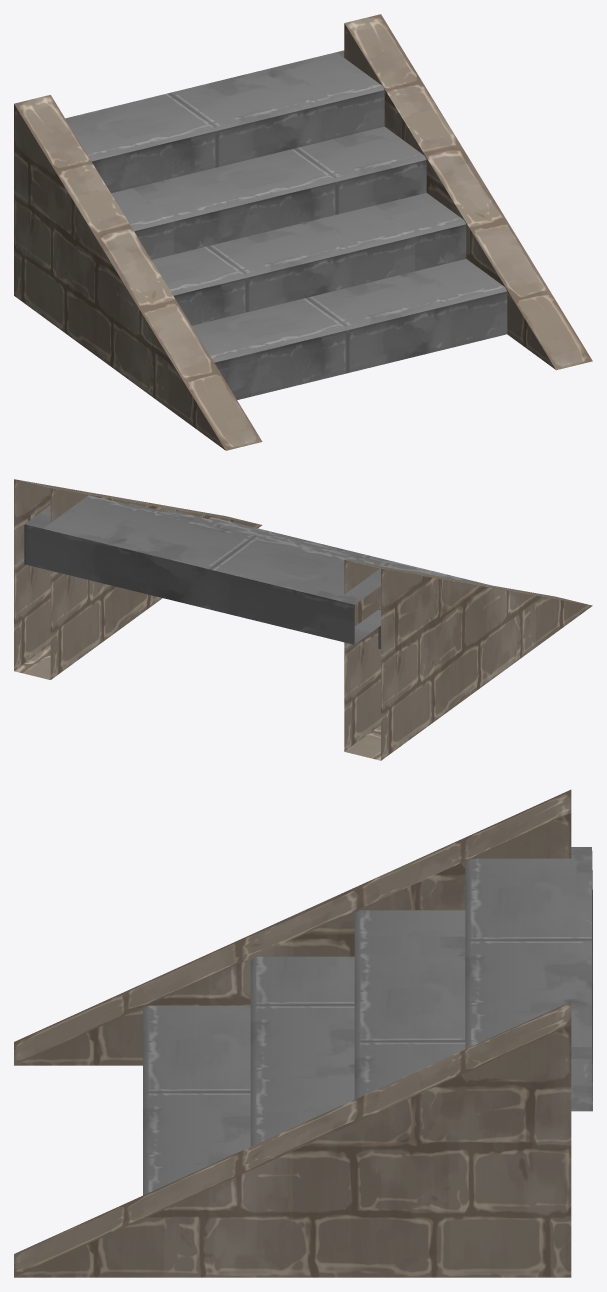
File: stairs_exterior_no_first_step.glb
The picture shows the model from 3 angles, top to bottom: view 1: azimuth 30°, elevation 25°; view 2: azimuth 150°, elevation 25°; view 3: azimuth 270°, elevation 25°; orthographic projection. The views are drawn at different scales.
Visible parts, largest first — view 1: Stairs_Exterior_NoFirstStep; view 2: Stairs_Exterior_NoFirstStep; view 3: Stairs_Exterior_NoFirstStep.
Part boxes in pixels (left/top/right/bottom): Stairs_Exterior_NoFirstStep: left=14, top=14, right=592, bottom=450; Stairs_Exterior_NoFirstStep: left=14, top=479, right=592, bottom=760; Stairs_Exterior_NoFirstStep: left=14, top=789, right=592, bottom=1277.
Bounding box in the file's own units: 2 × 1 × 2.08.
Materials: 2 (2 with a texture image).
